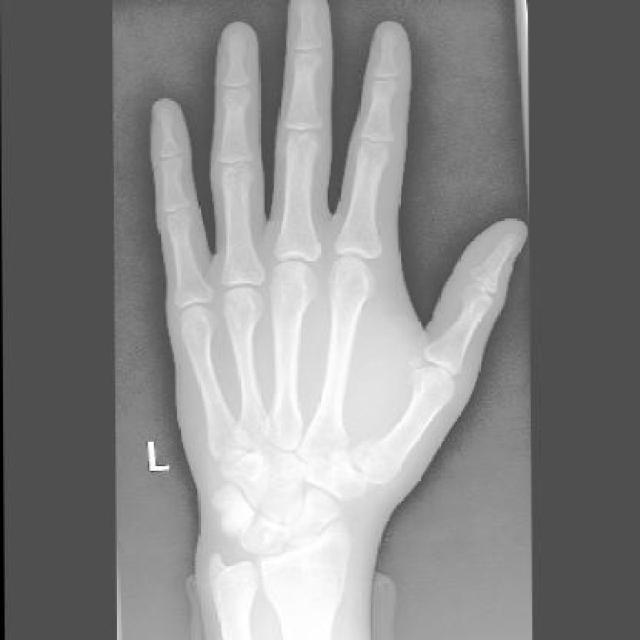Fracture: (349, 436, 397, 485)
